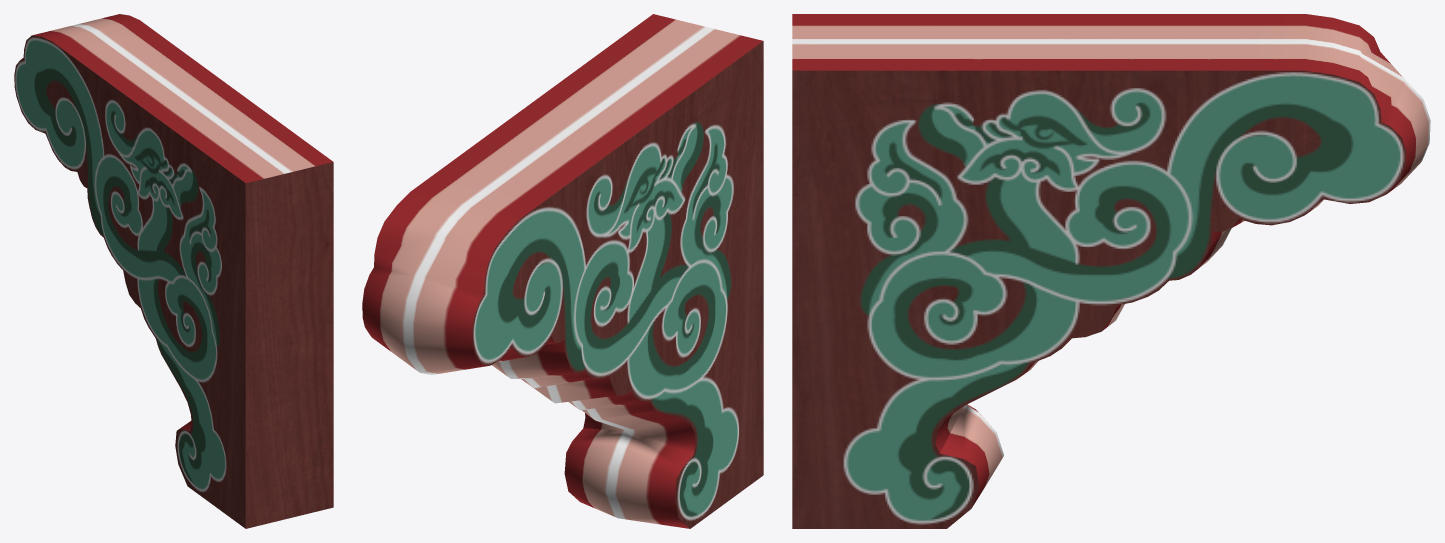
File: SM_Boaji06I.fbx
The picture shows the model from 3 angles, left to right: view 1: azimuth 30°, elevation 25°; view 2: azimuth 150°, elevation 25°; view 3: azimuth 270°, elevation 25°; orthographic projection. The views are drawn at different scales.
Visible parts, largest first — view 1: SM_Boaji06I; view 2: SM_Boaji06I; view 3: SM_Boaji06I.
Part boxes in pixels (box(x1,y1,x2,y2)): SM_Boaji06I: box(14, 14, 333, 528); SM_Boaji06I: box(362, 14, 763, 528); SM_Boaji06I: box(792, 14, 1430, 528).
Bounding box in the file's own units: 10.06 × 47.79 × 37.86.
